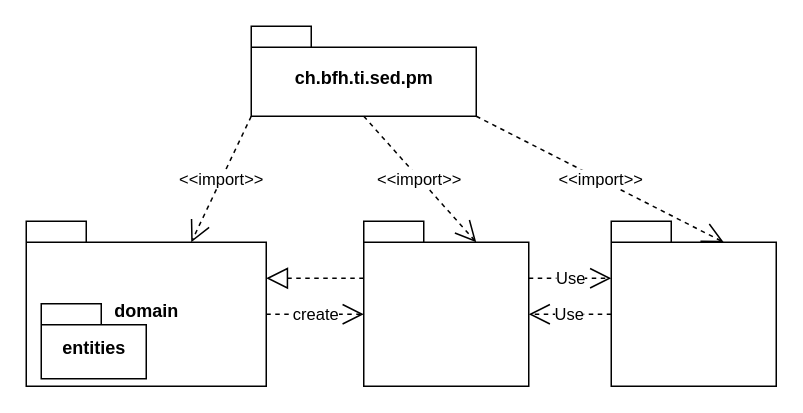
This 803x413 diagram has some shape labels left out. The shapes that lost their labels are listed below. From the top down, each one's centre as x and y in pixels, then its label:
At pixel 445 303: "technical".
At pixel 693 303: "view".
